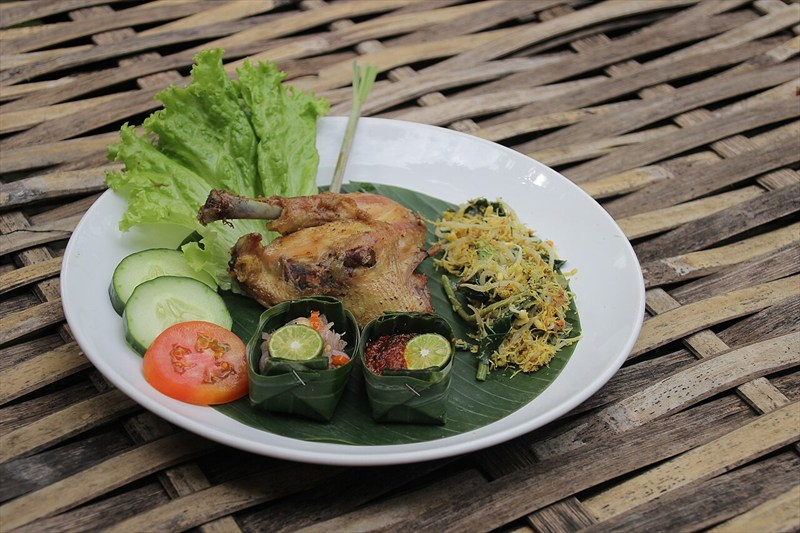Ayam Goreng: (42, 21, 738, 472)
